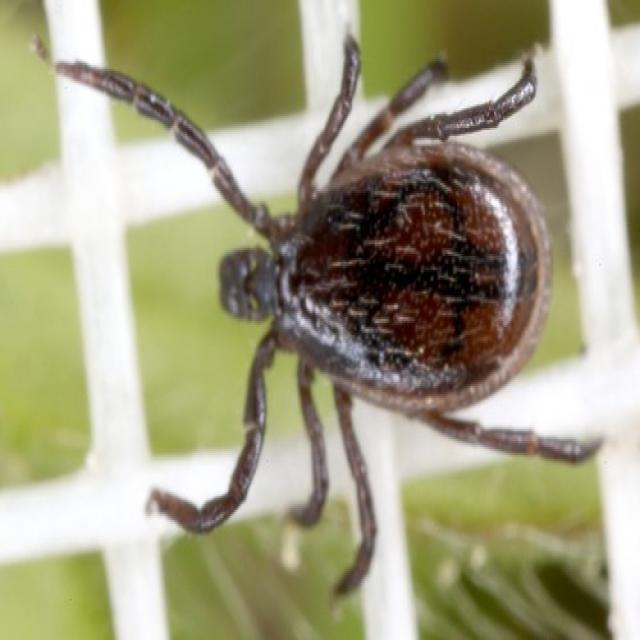Ixodes Ricinus-M: (55, 35, 603, 603)
